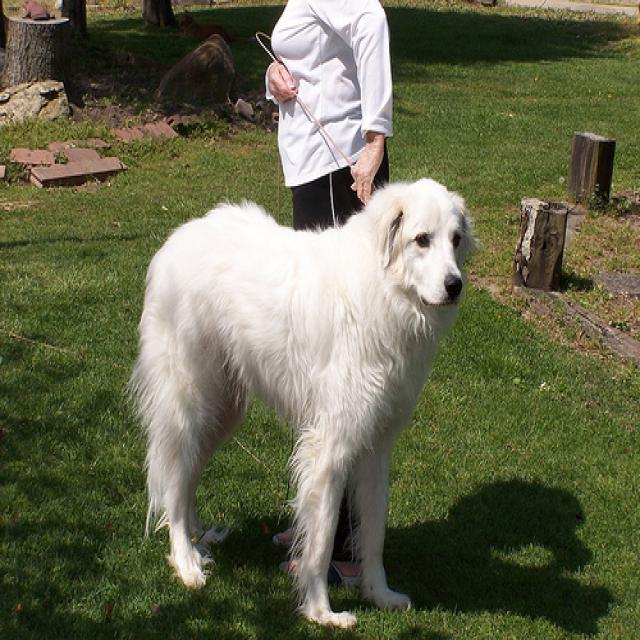dog-great_pyrenees: (127, 167, 481, 637)
